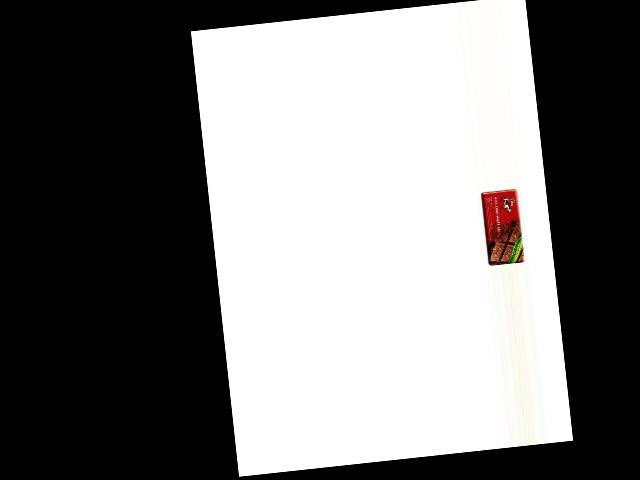chocolate: (479, 187, 525, 266)
